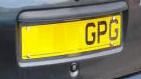G: (84, 21, 96, 45), (109, 18, 119, 41)
P: (97, 20, 108, 44)
